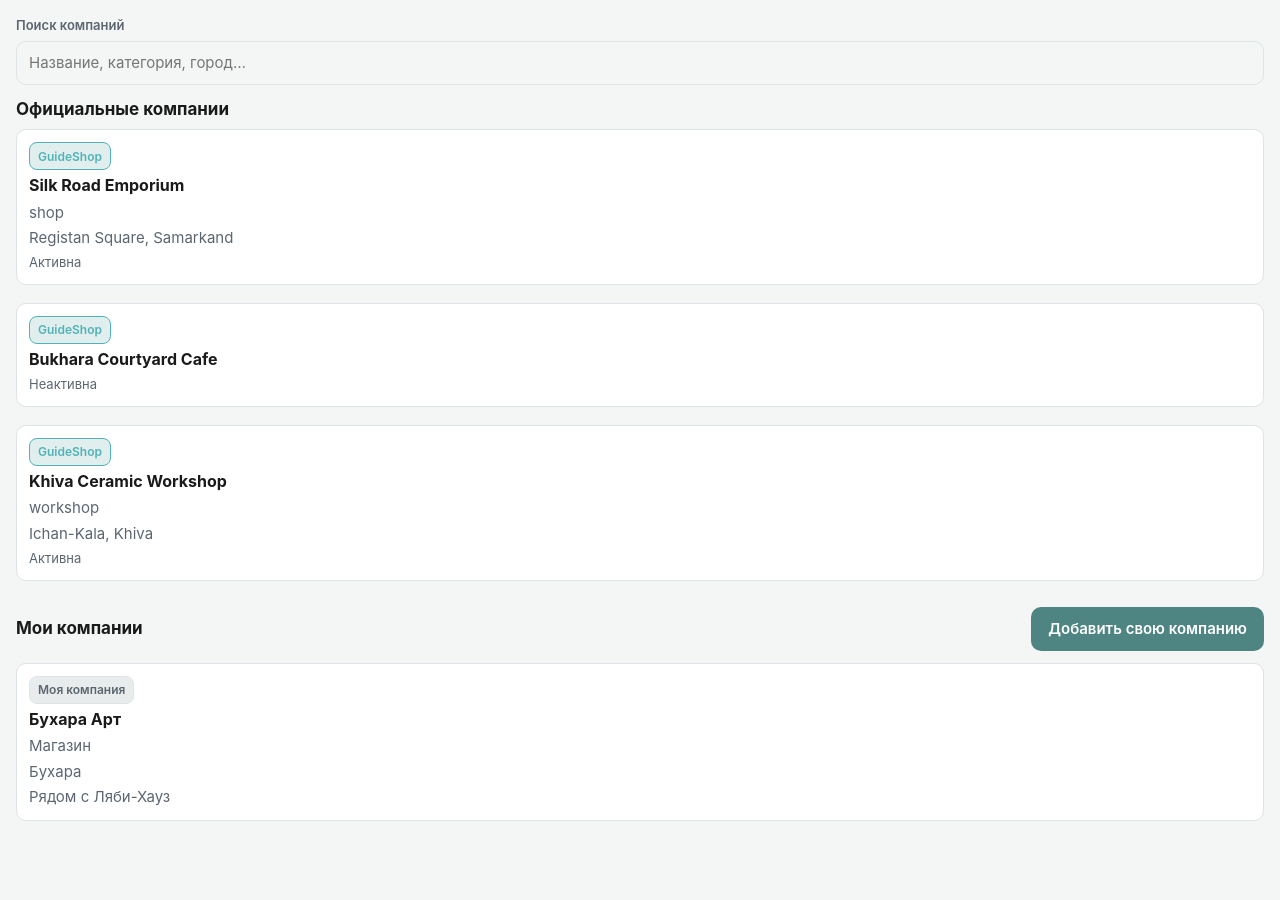
Test: GuideShop personal commissions UI (simplified) › form renders exactly Date, Commission, Note and no obsolete fields
The width and height of the screenshot is (1280, 900).
Click the button "Моя компания Бухара Арт Магазин Бухара Рядом с Ляби-Хауз" at (640, 742), box [16,663,1264,821]
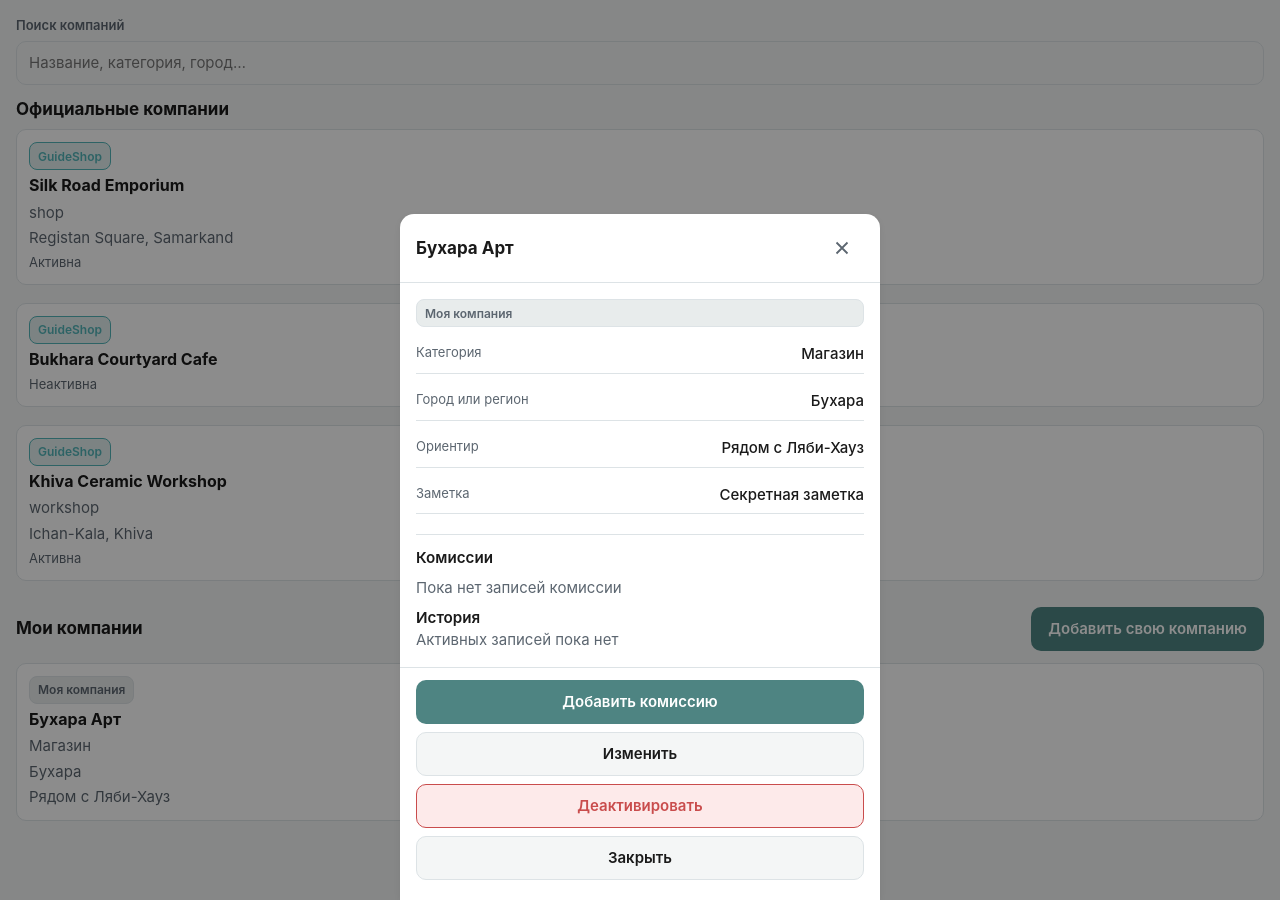
Click the button "Добавить комиссию" at (640, 702), box [416,680,864,724]
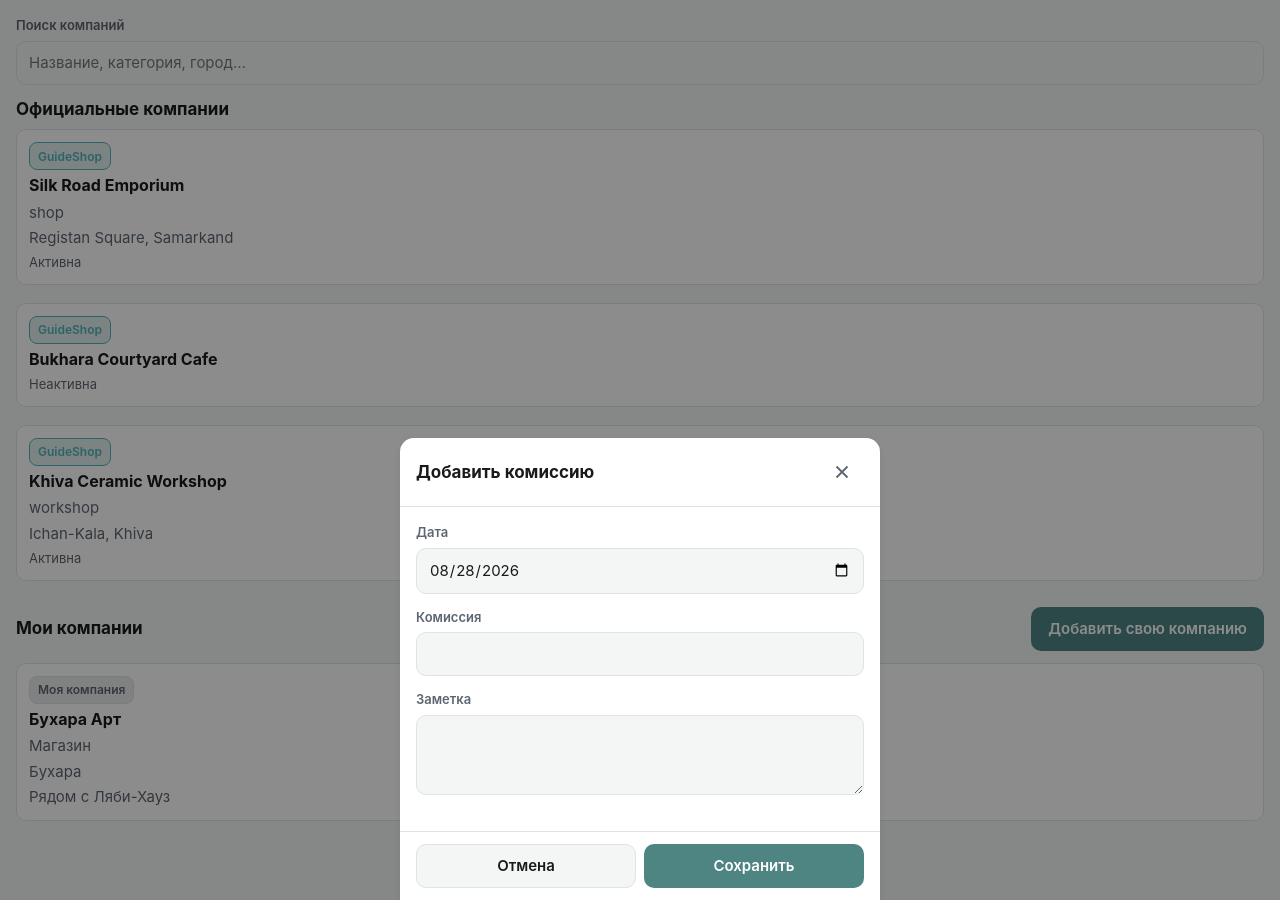
Now the date field labelled "Дата" is shown, box [416,548,864,594]
Now the field labelled "Комиссия" is shown, box [416,632,864,676]
Now the text box labelled "Заметка" is shown, box [416,715,864,795]
